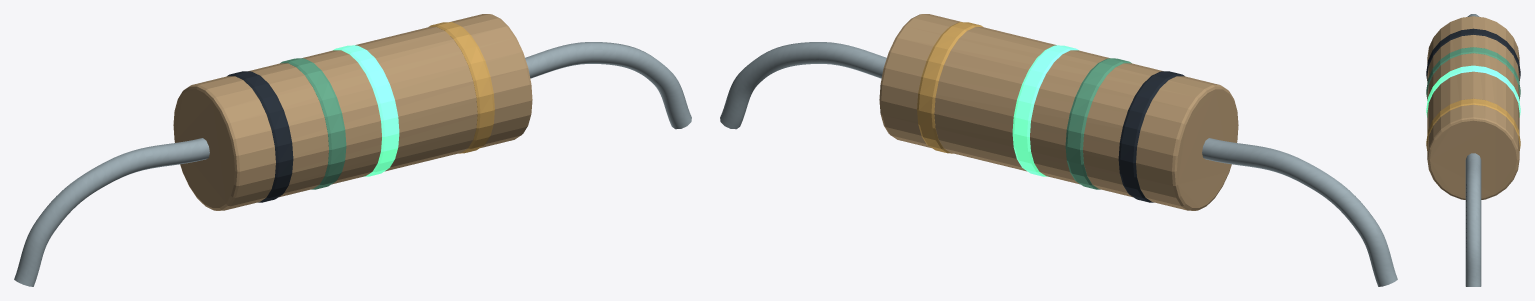
Rendered from resistor.glb.
3 renders of one model, left to right at view 1: azimuth 30°, elevation 25°; view 2: azimuth 150°, elevation 25°; view 3: azimuth 270°, elevation 25°, orthographic. The views are drawn at different scales.
Visible parts, largest first — view 1: resistor; view 2: resistor; view 3: resistor.
Part boxes in pixels (x1,y1,x2,y2): resistor: (14, 14, 691, 286); resistor: (720, 14, 1397, 286); resistor: (1426, 14, 1520, 286).
Bounding box in the file's own units: 0.6357 × 0.1384 × 0.108.
